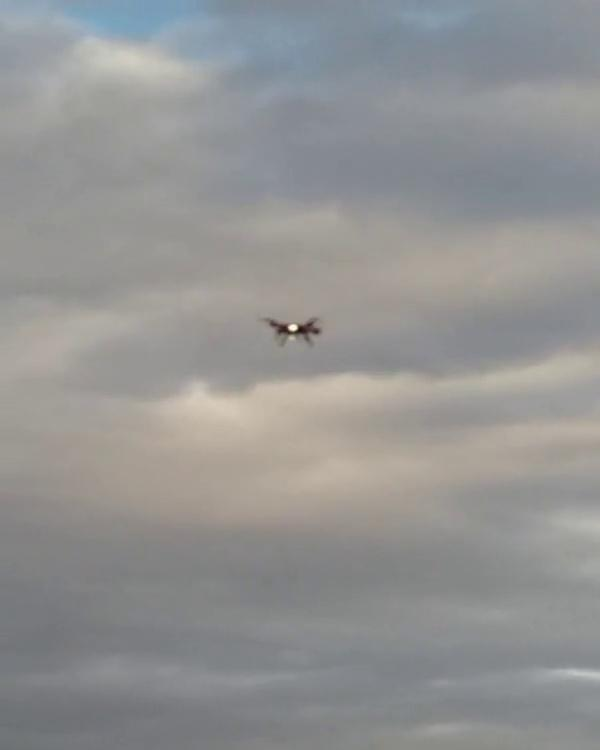drone: (261, 308, 325, 349)
